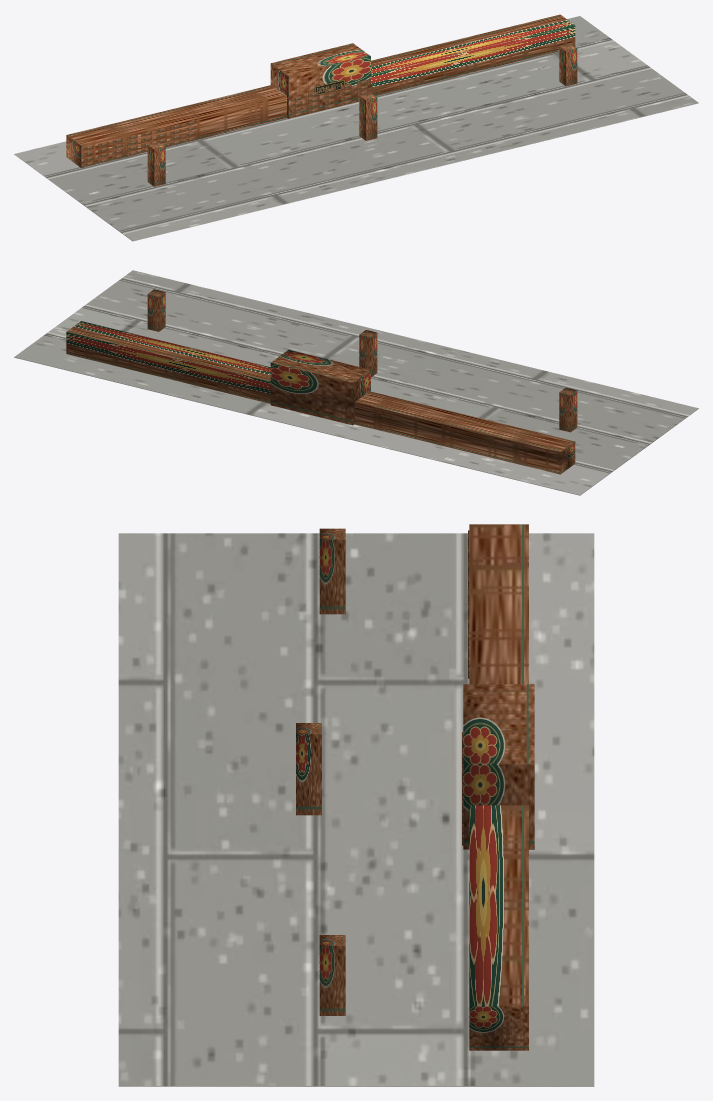
3 renders of one model, top to bottom at view 1: azimuth 30°, elevation 25°; view 2: azimuth 150°, elevation 25°; view 3: azimuth 270°, elevation 25°, orthographic. The views are drawn at different scales.
Visible parts, largest first — view 1: 11140_02_04626_023_01_L2__base, 11140_02_04626_023_02_L2__body, 11140_02_04626_023_05_L2__openings, 11140_02_04626_023_06_L2__green; view 2: 11140_02_04626_023_01_L2__base, 11140_02_04626_023_02_L2__body, 11140_02_04626_023_06_L2__green; view 3: 11140_02_04626_023_01_L2__base, 11140_02_04626_023_02_L2__body, 11140_02_04626_023_06_L2__green.
Boxes of the visible parts, left/top/right/bottom form: 11140_02_04626_023_01_L2__base: left=14, top=16, right=698, bottom=241; 11140_02_04626_023_02_L2__body: left=66, top=14, right=575, bottom=167; 11140_02_04626_023_05_L2__openings: left=83, top=79, right=368, bottom=166; 11140_02_04626_023_06_L2__green: left=147, top=43, right=577, bottom=186; 11140_02_04626_023_01_L2__base: left=14, top=270, right=698, bottom=495; 11140_02_04626_023_02_L2__body: left=66, top=321, right=575, bottom=474; 11140_02_04626_023_06_L2__green: left=147, top=289, right=577, bottom=432; 11140_02_04626_023_01_L2__base: left=118, top=533, right=594, bottom=1086; 11140_02_04626_023_02_L2__body: left=463, top=524, right=534, bottom=1050; 11140_02_04626_023_06_L2__green: left=296, top=528, right=345, bottom=1015.
Size of the model in its own units: 110 by 8 by 40.
Materials: 4 (4 with a texture image).
